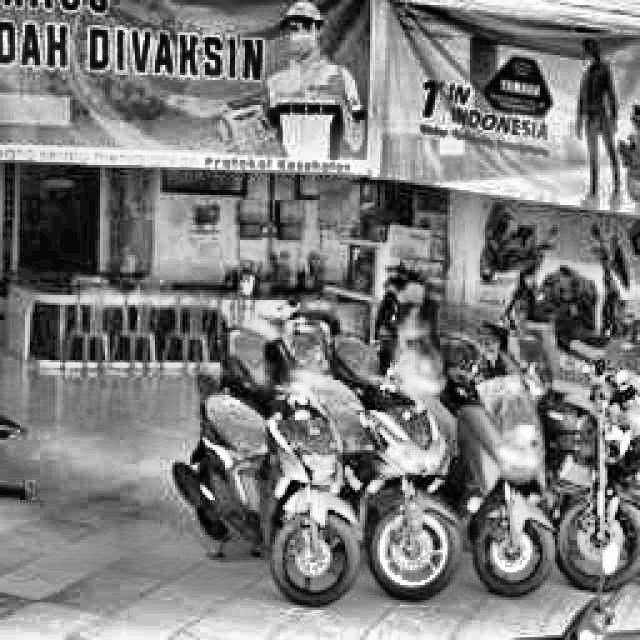motorcycle: (182, 365, 366, 606), (329, 370, 463, 602), (437, 365, 555, 600), (544, 363, 640, 594)
